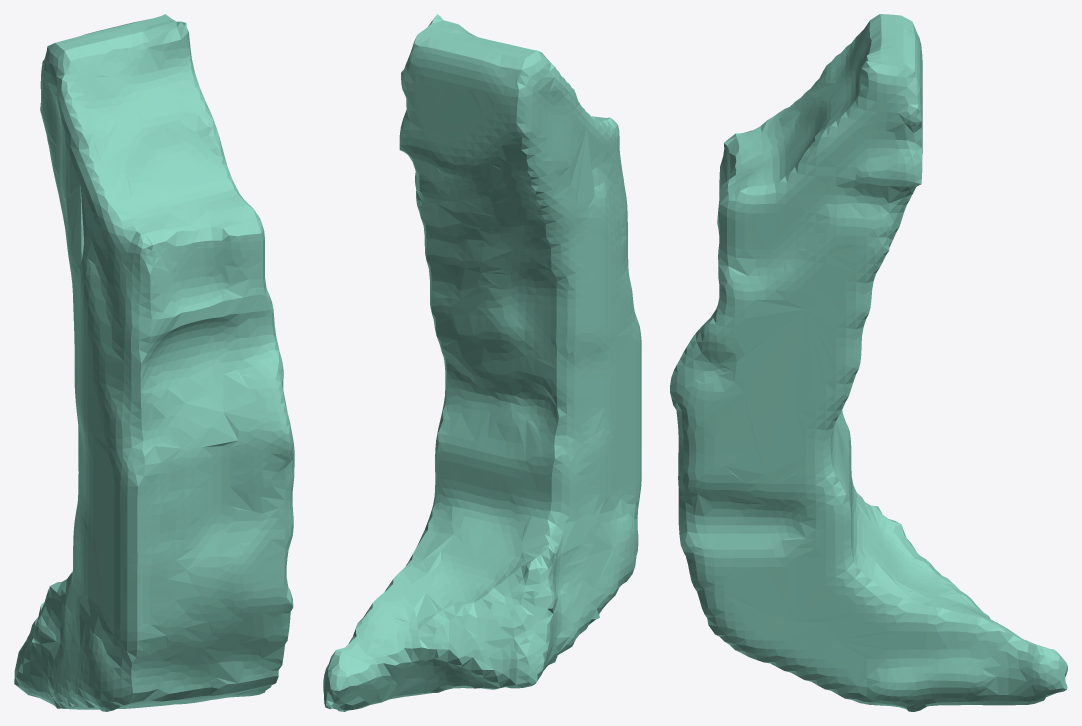
File: Model_10054_LH__Area_23b_of_cortex_(A23b).obj
3 renders of one model, left to right at view 1: azimuth 30°, elevation 25°; view 2: azimuth 150°, elevation 25°; view 3: azimuth 270°, elevation 25°, orthographic. The views are drawn at different scales.
Bounding box in the file's own units: 1.89 × 7.02 × 3.92.
